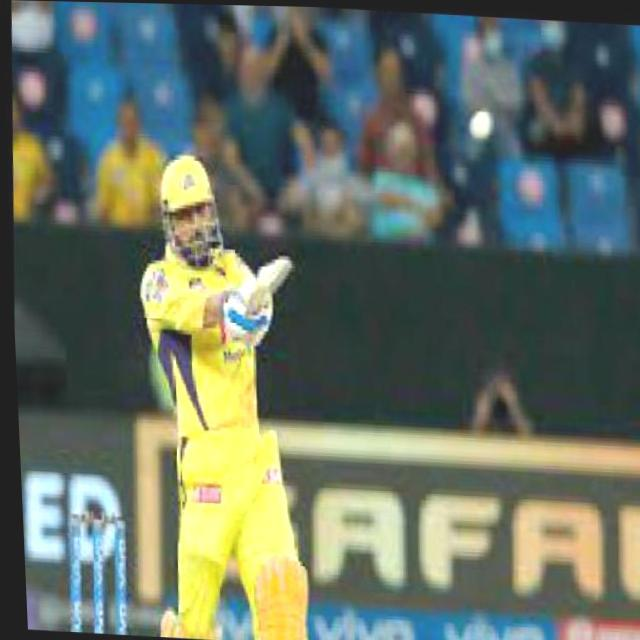-: (446, 111, 517, 154)
